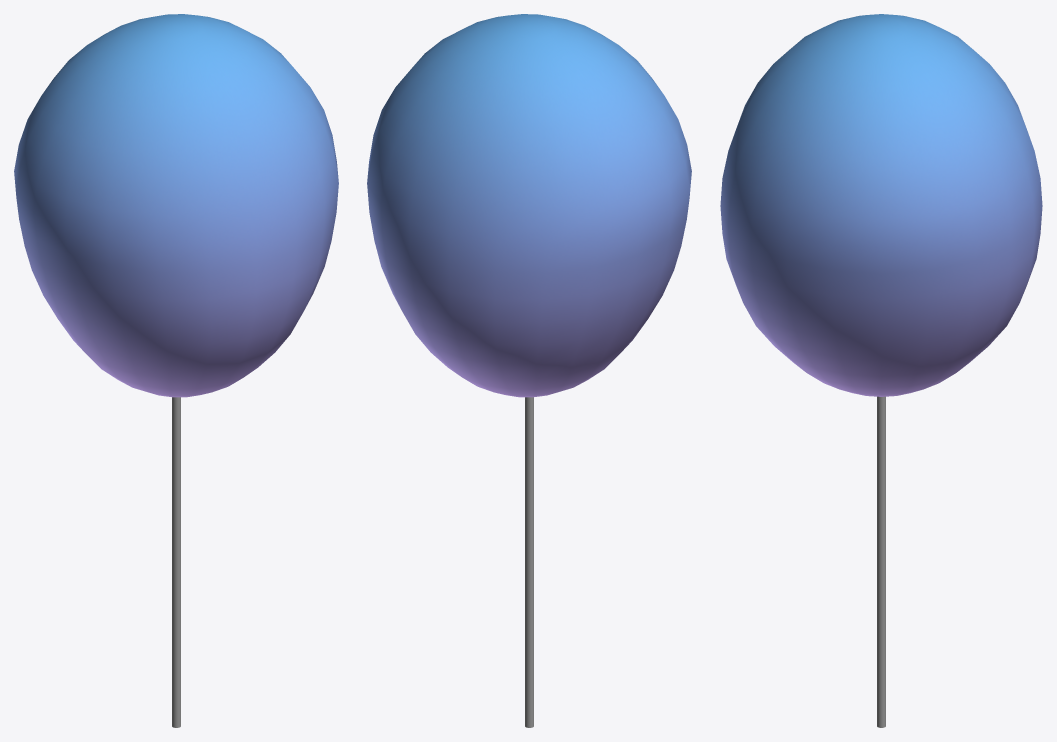
Rendered from ballonfinal.fbx.
3 renders of one model, left to right at view 1: azimuth 30°, elevation 25°; view 2: azimuth 150°, elevation 25°; view 3: azimuth 270°, elevation 25°, orthographic.
Parts seen in each view (by area): view 1: baba_ballon, pCylinder1; view 2: baba_ballon, pCylinder1; view 3: baba_ballon, pCylinder1.
Part boxes in pixels (x1,y1,x2,y2): baba_ballon: (14,14,338,397); pCylinder1: (172,397,180,727); baba_ballon: (367,14,691,397); pCylinder1: (525,397,533,727); baba_ballon: (720,14,1042,396); pCylinder1: (877,396,885,727).
Bounding box in the file's own units: 2.47 × 5.78 × 2.42.
Materials: 2 (1 with a texture image).
